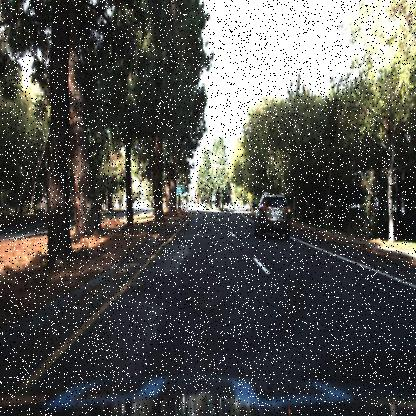car: (250, 190, 291, 240)
